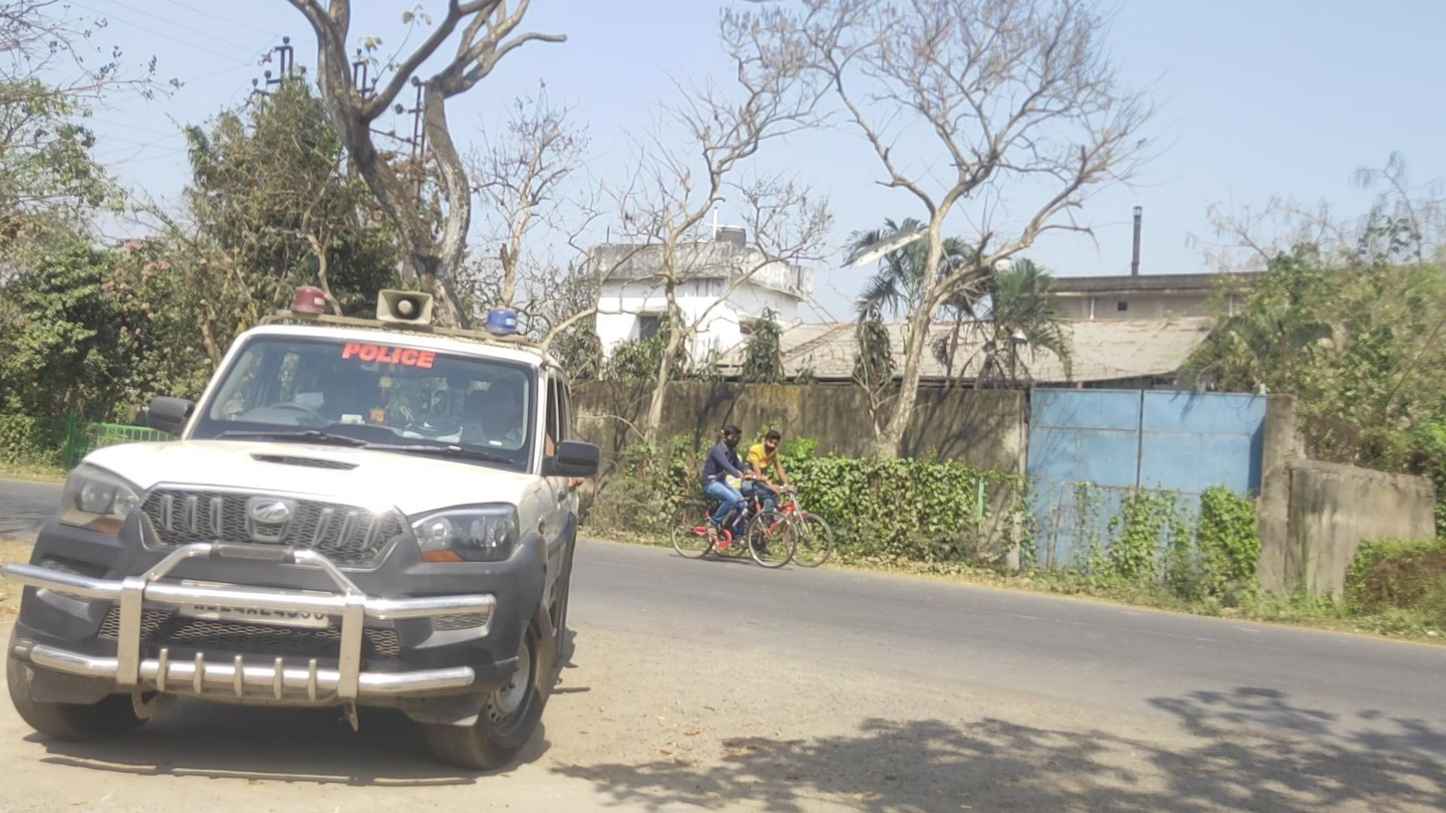bike: (670, 427, 798, 568), (705, 430, 833, 568)
car: (3, 286, 599, 769)
